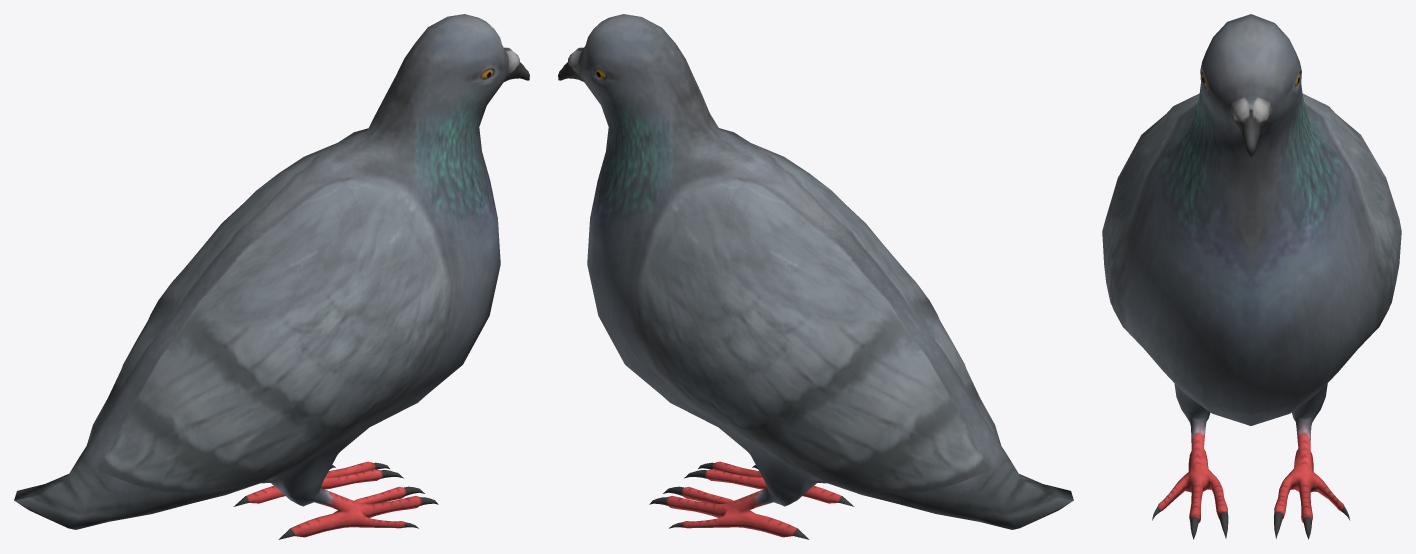
Rendered from Pegeon.fbx.
3 views of the same model, side by side, from view 1: azimuth 30°, elevation 25°; view 2: azimuth 150°, elevation 25°; view 3: azimuth 270°, elevation 25° (orthographic). The views are drawn at different scales.
Parts seen in each view (by area): view 1: Venezia_Pegeon; view 2: Venezia_Pegeon; view 3: Venezia_Pegeon.
Boxes of the visible parts, x1,y1,x2,y2 form: Venezia_Pegeon: (14, 14, 529, 539); Venezia_Pegeon: (558, 14, 1073, 539); Venezia_Pegeon: (1102, 14, 1401, 539).
Size of the model in its own units: 48.75 by 41.54 by 20.67.
